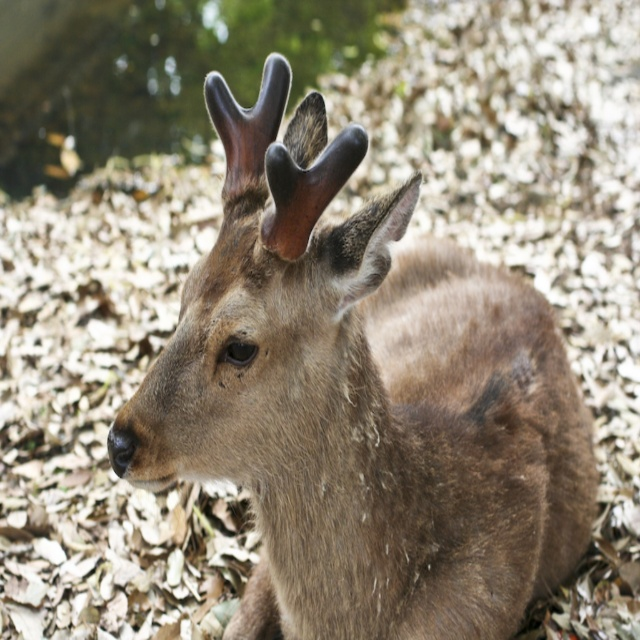Deer: (109, 55, 593, 639)
